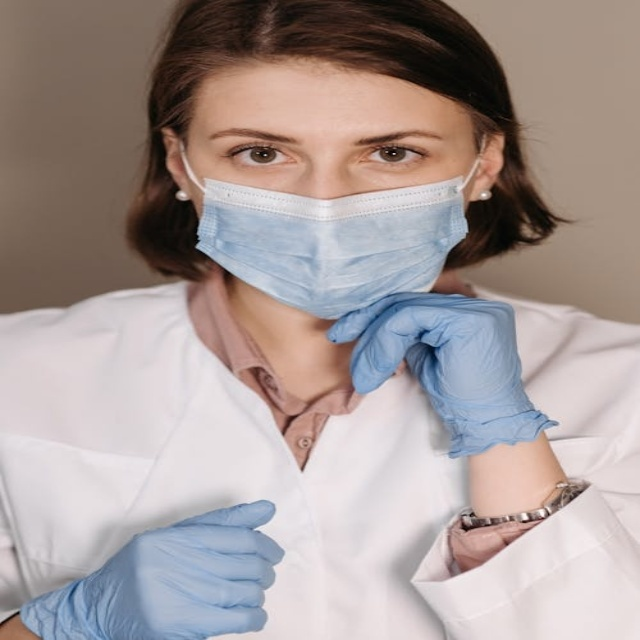Guantes: (328, 290, 556, 458), (21, 499, 287, 640)
Mascara: (182, 133, 479, 319)
Sin_gafas: (207, 84, 467, 184)
